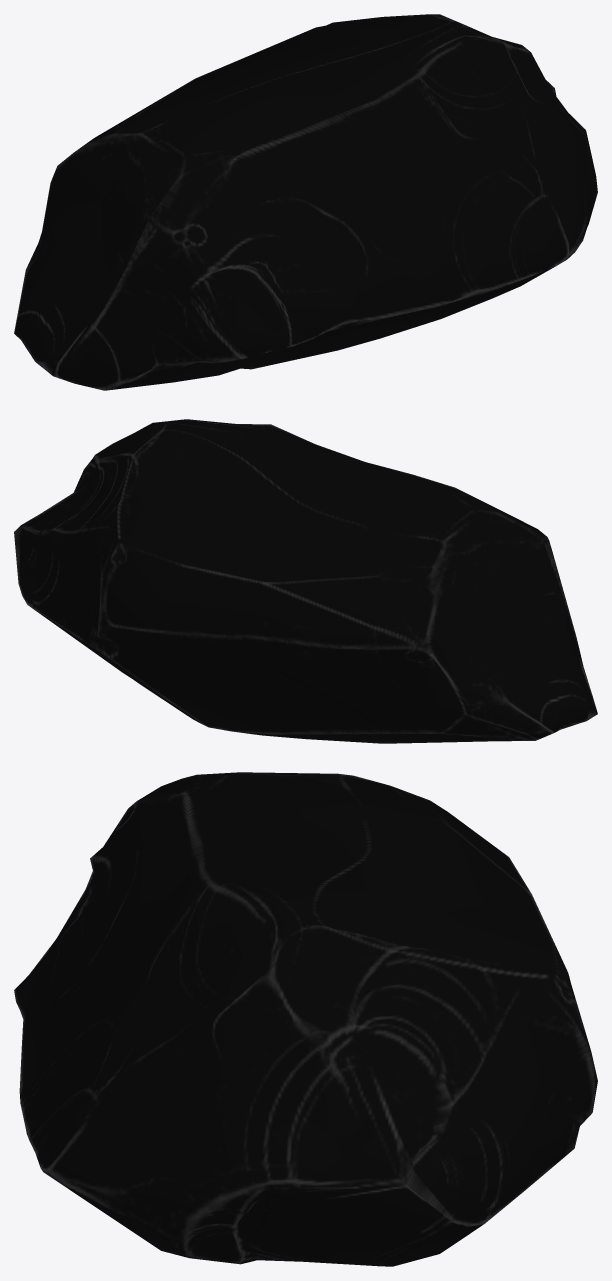
The model's file is skorpion-obsidian.gltf.
3 renders of one model, top to bottom at view 1: azimuth 30°, elevation 25°; view 2: azimuth 150°, elevation 25°; view 3: azimuth 270°, elevation 25°, orthographic. The views are drawn at different scales.
Parts seen in each view (by area): view 1: Object_2; view 2: Object_2; view 3: Object_2.
Boxes of the visible parts, x1,y1,x2,y2 form: Object_2: (14, 14, 597, 390); Object_2: (14, 419, 597, 743); Object_2: (14, 772, 597, 1266).
Bounding box in the file's own units: 1.97 × 0.8592 × 1.25.
Materials: 1 (1 with a texture image).
